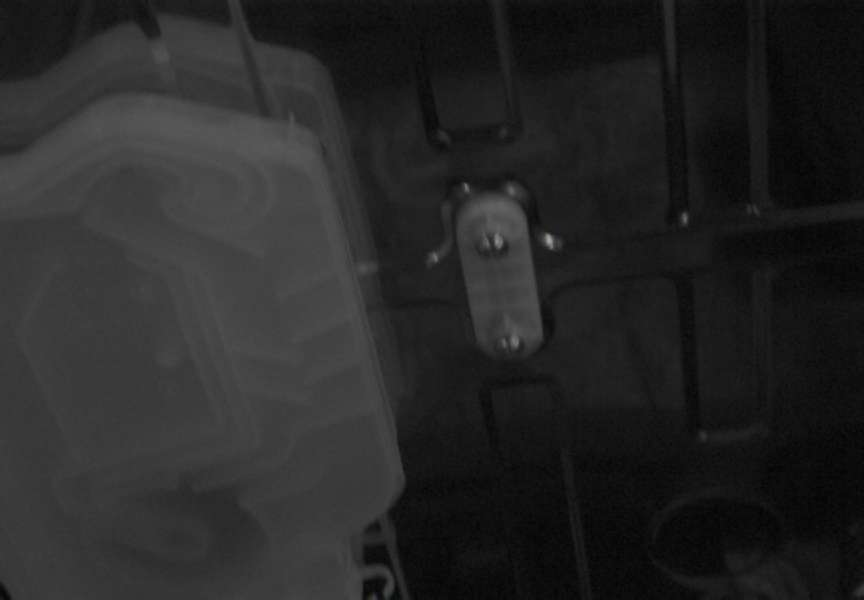screw: (476, 231, 509, 258), (495, 333, 524, 357)
